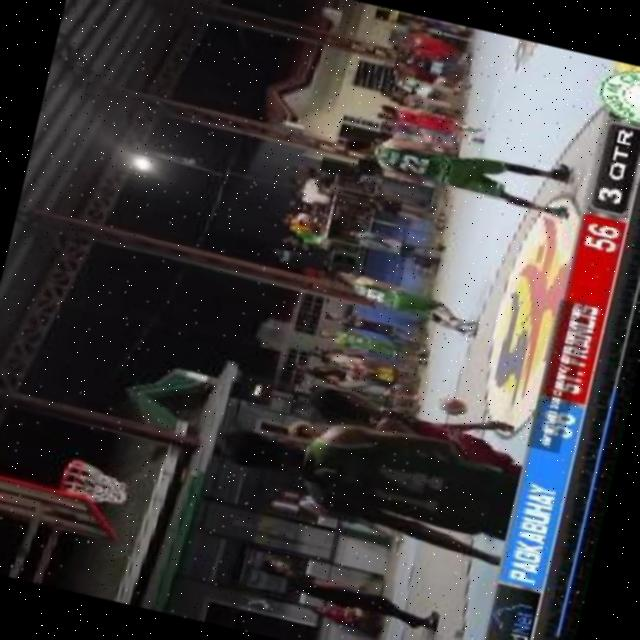ball: (432, 392, 474, 421)
hoop: (56, 454, 86, 494)
